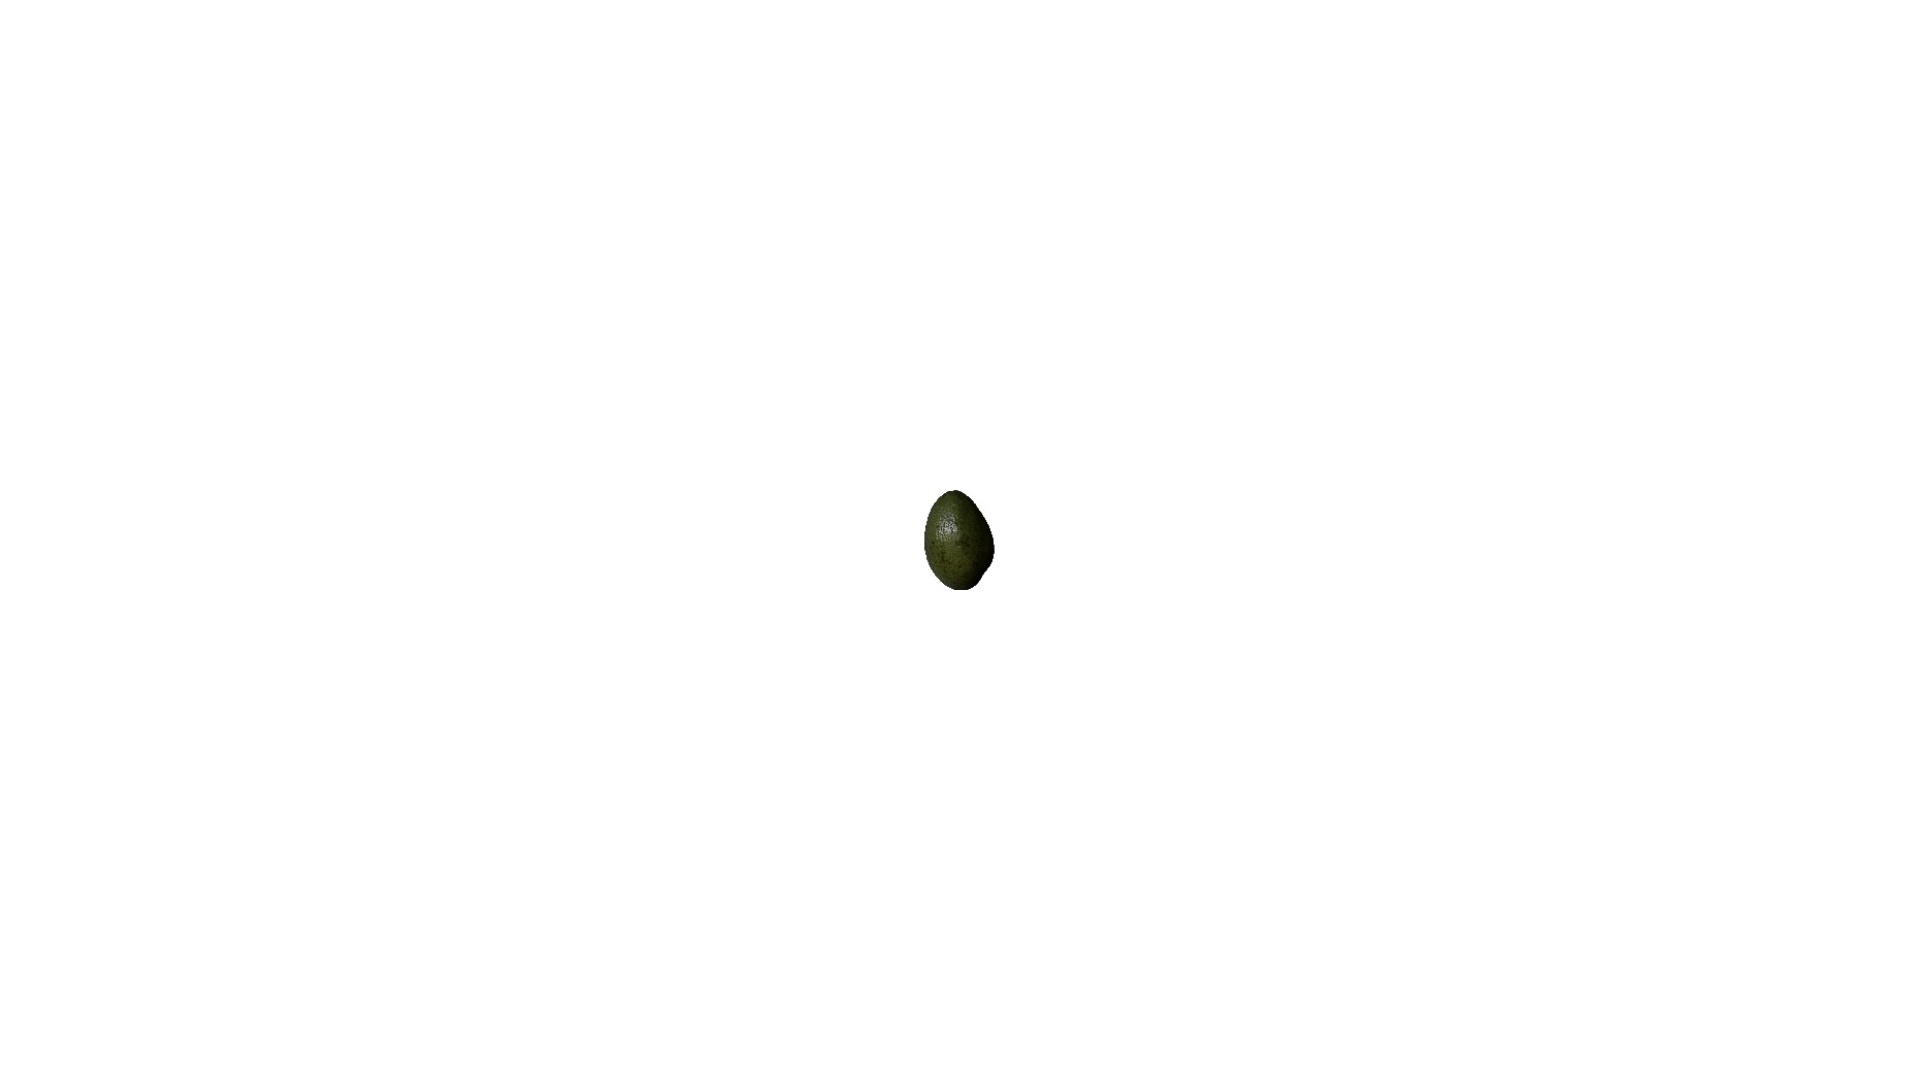abacate: (918, 487, 1000, 589)
